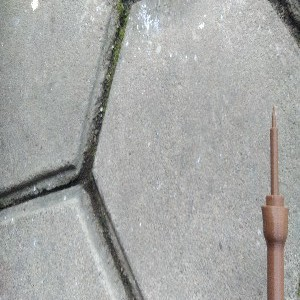solder: (260, 104, 291, 300)
